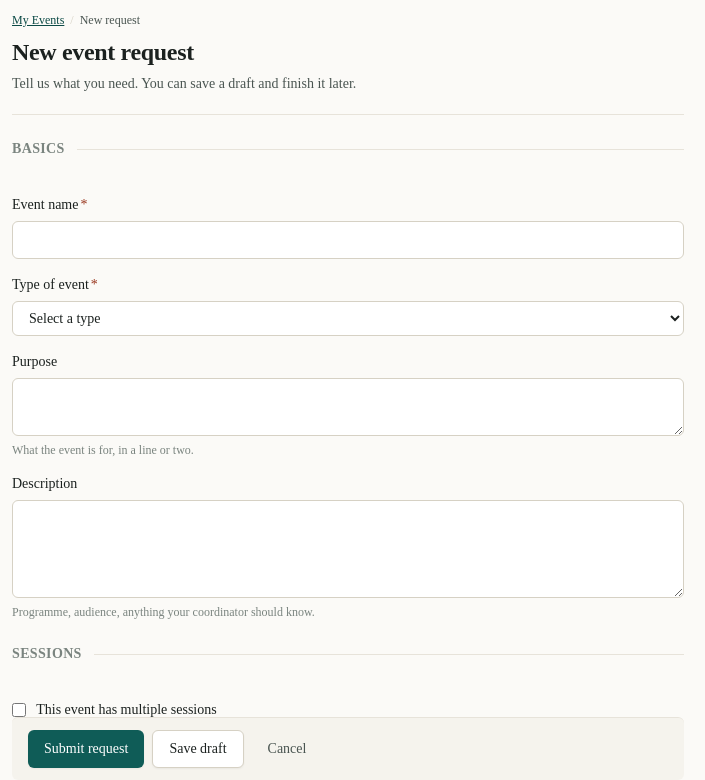
Test case: New event request: the form › submitting › [SPM-23][AC7] names every missing field and sends nothing
Step 1. Type "Gala Dinner" into the field labelled "Event name*" → (348, 240), box top-left (12, 221), bottom-right (684, 259)
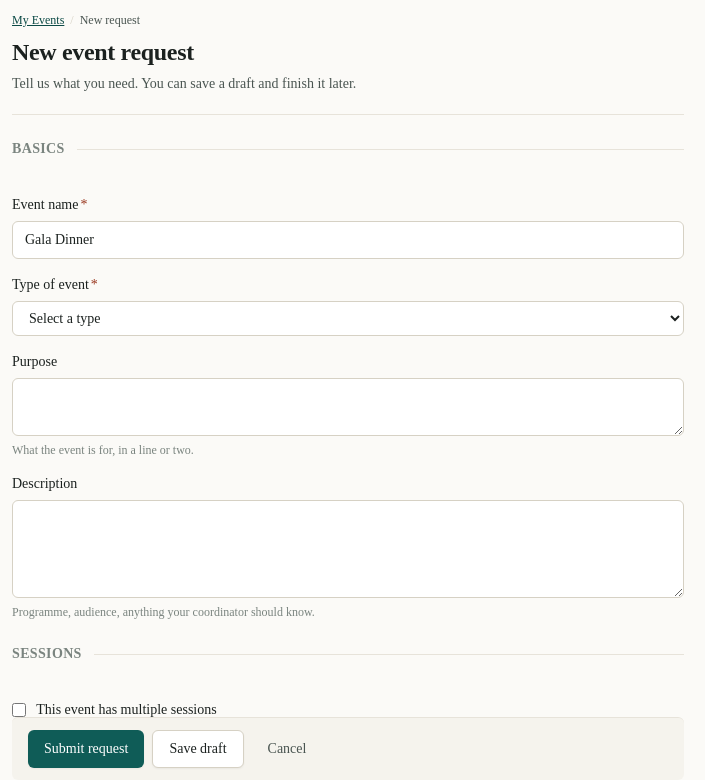
Step 2. Click the button "Submit request" → (86, 749), box top-left (28, 730), bottom-right (144, 768)
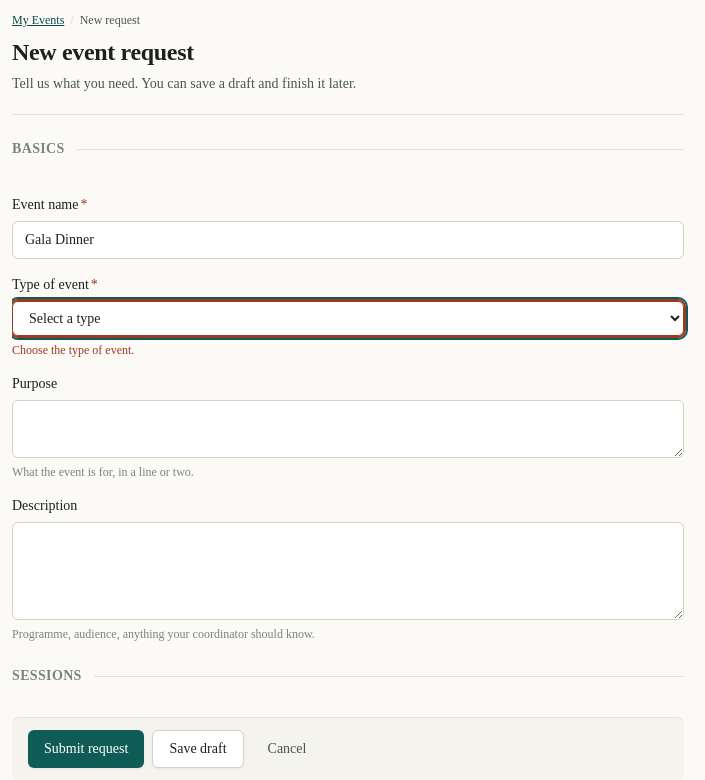
Check: the text "Choose the type of event." is shown, box top-left (12, 343), bottom-right (134, 357)
